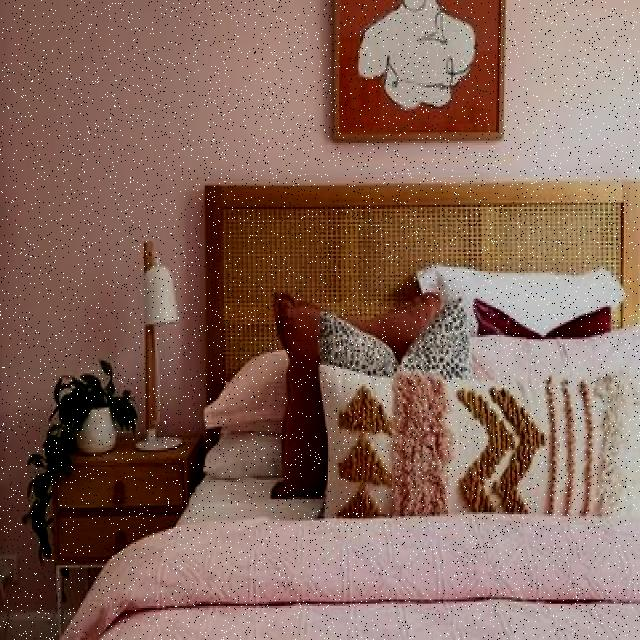bed: (162, 272, 640, 640)
